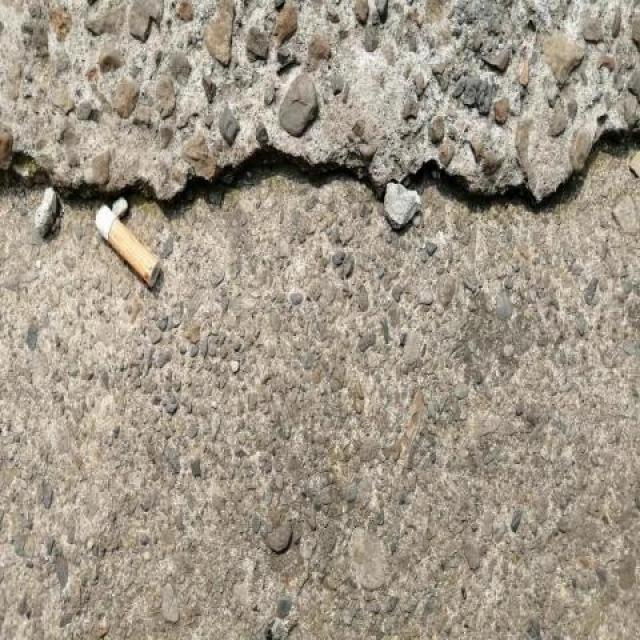non-organic waste: (90, 198, 163, 290)
